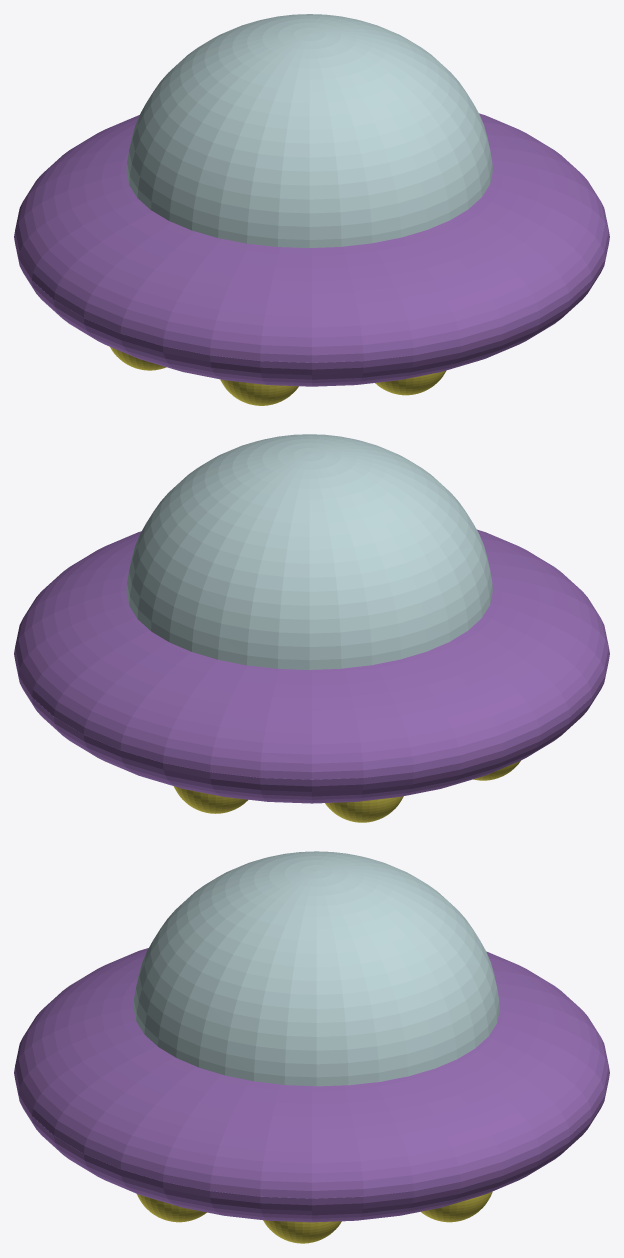
The model's file is PurpleFlyingSaucer.glb.
3 renders of one model, top to bottom at view 1: azimuth 30°, elevation 25°; view 2: azimuth 150°, elevation 25°; view 3: azimuth 270°, elevation 25°, orthographic.
Visible parts, largest first — view 1: Mesh_Mesh_head_geo.001_lambert2SG.001; view 2: Mesh_Mesh_head_geo.001_lambert2SG.001; view 3: Mesh_Mesh_head_geo.001_lambert2SG.001.
Part boxes in pixels (bbox=[...]): Mesh_Mesh_head_geo.001_lambert2SG.001: bbox=[14, 14, 609, 405]; Mesh_Mesh_head_geo.001_lambert2SG.001: bbox=[14, 434, 609, 822]; Mesh_Mesh_head_geo.001_lambert2SG.001: bbox=[14, 851, 609, 1243].
Bounding box in the file's own units: 130 × 69 × 130.
